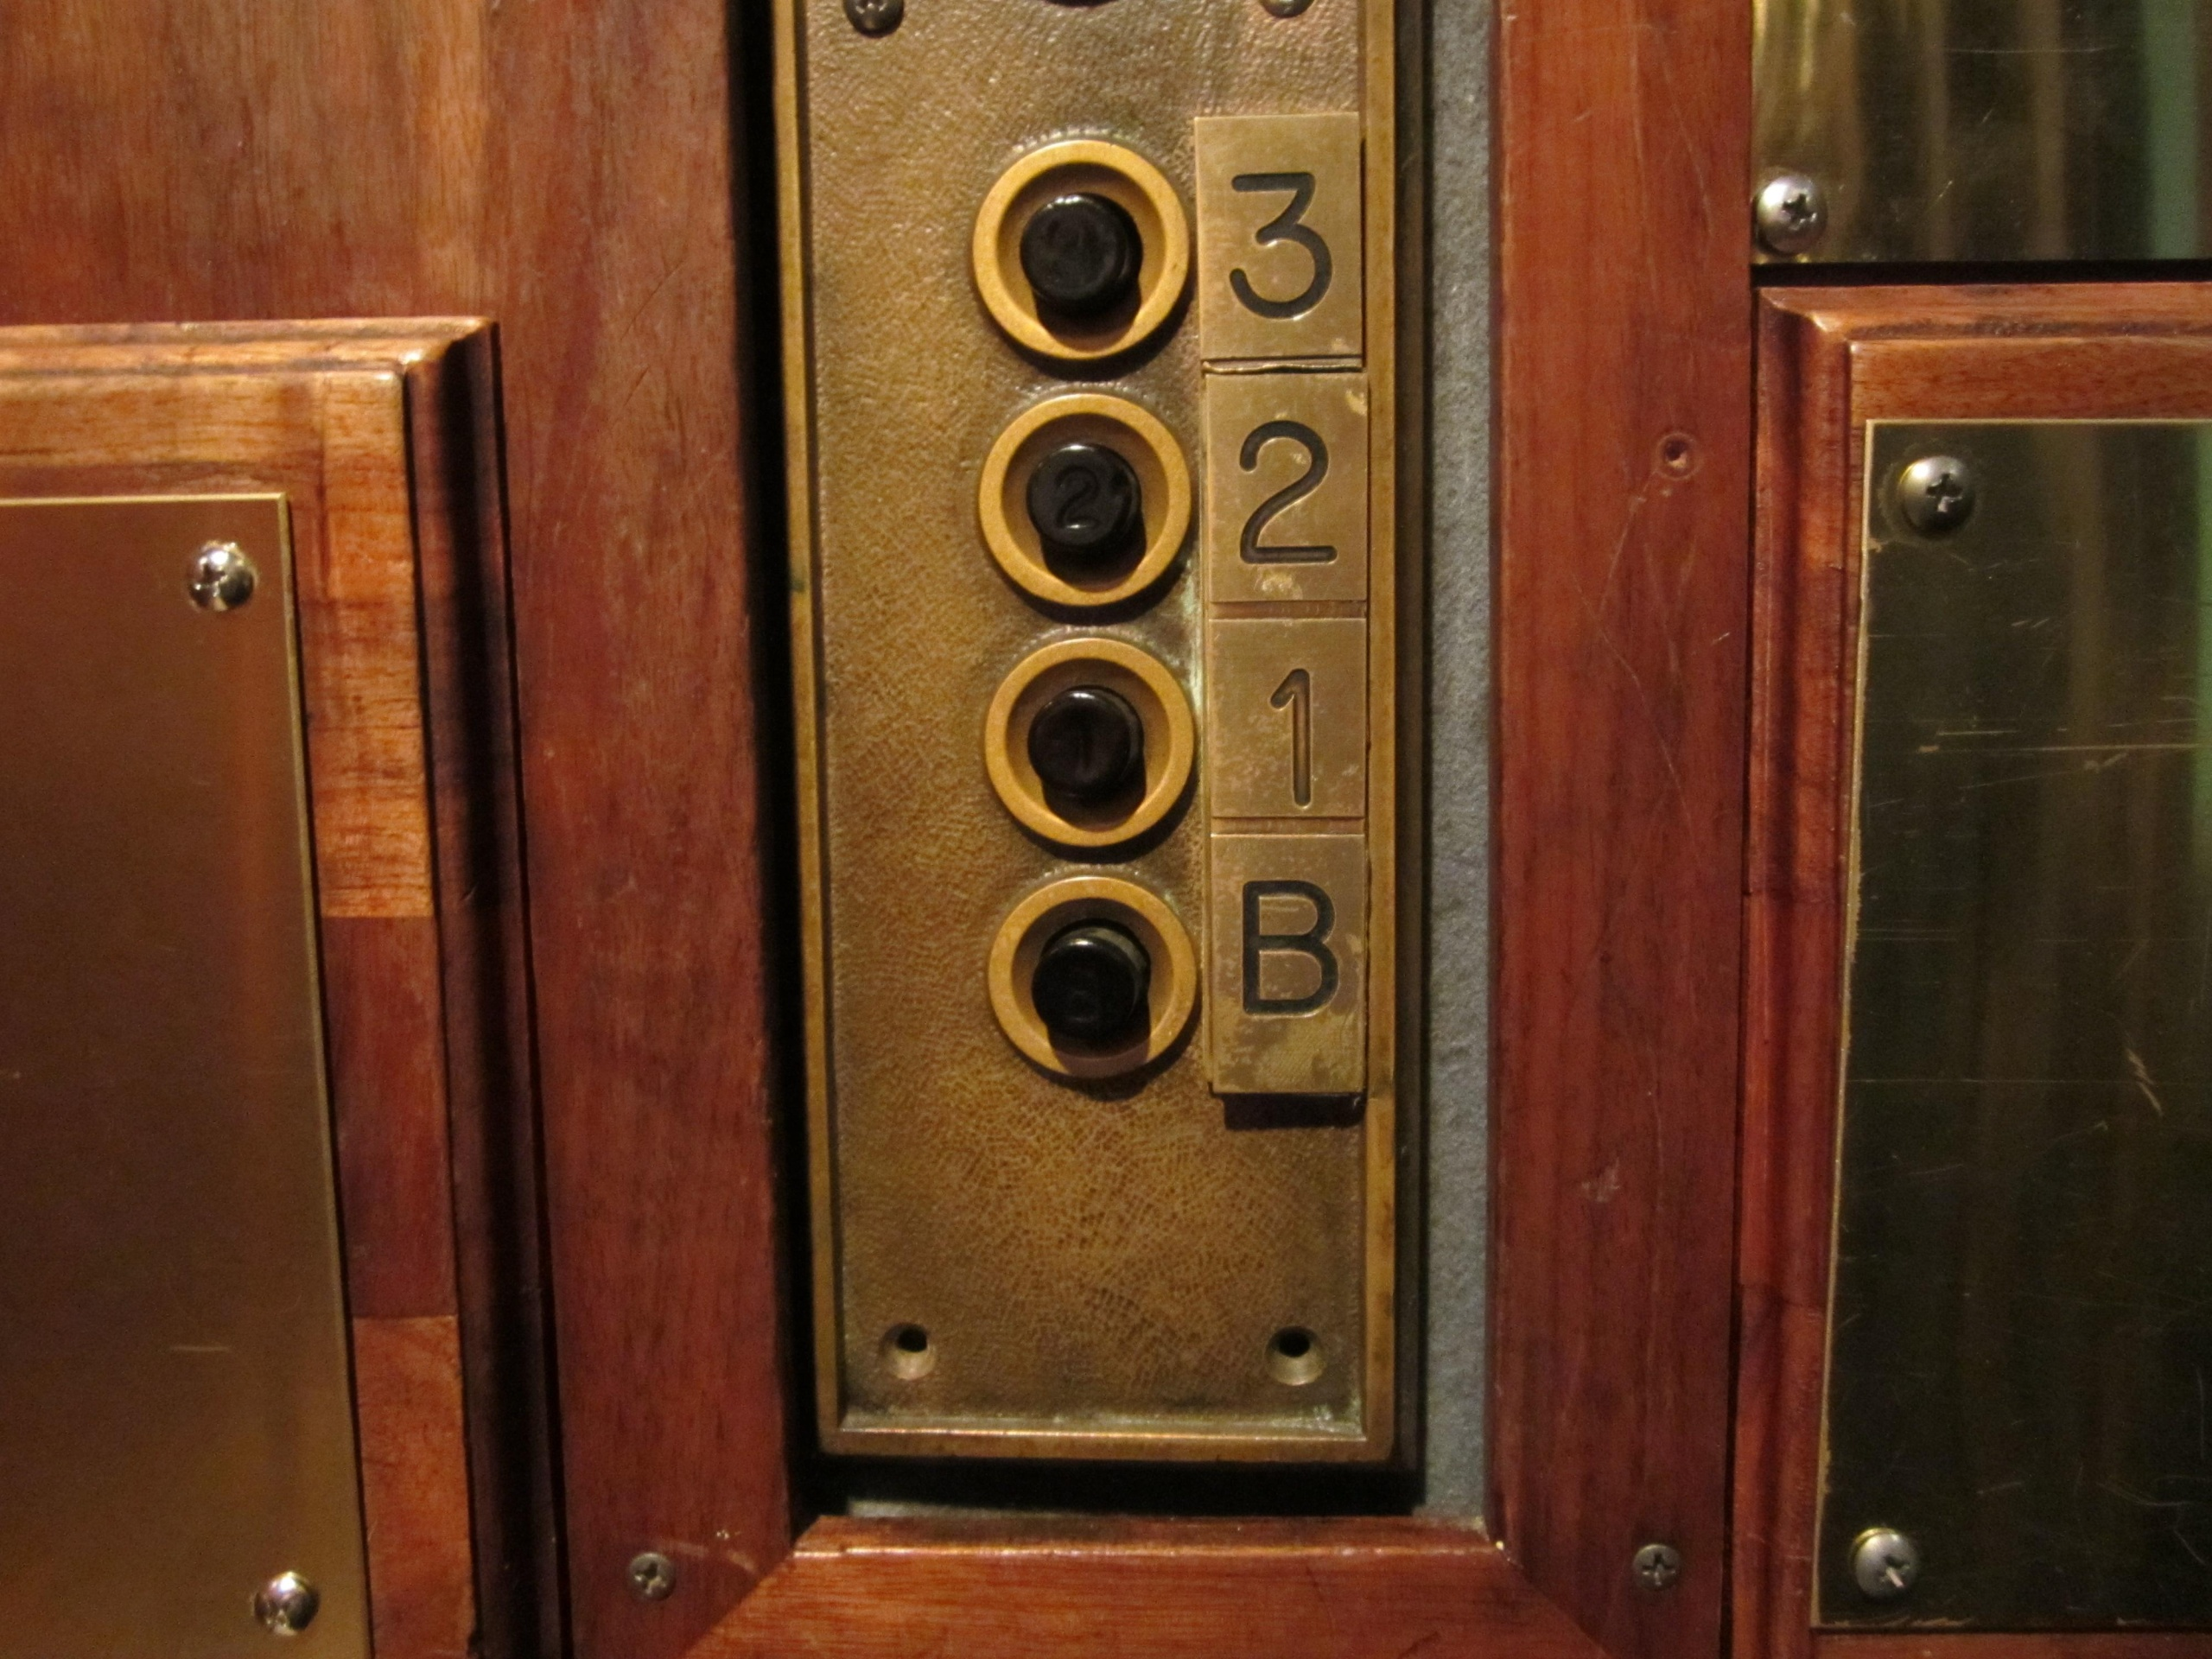1: (1205, 610, 1371, 826)
2: (979, 389, 1193, 610), (1200, 369, 1371, 608)
3: (1193, 112, 1366, 373)
B: (1205, 826, 1369, 1100)
blur: (967, 138, 1193, 362), (979, 634, 1200, 852), (988, 873, 1198, 1084)
